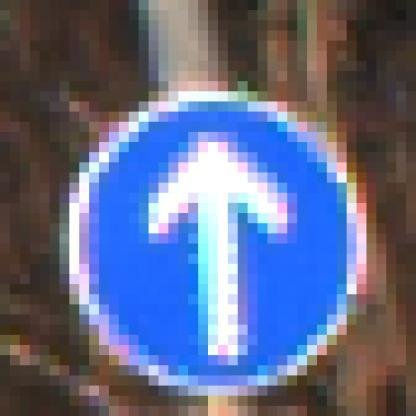straight: (49, 81, 376, 396)
